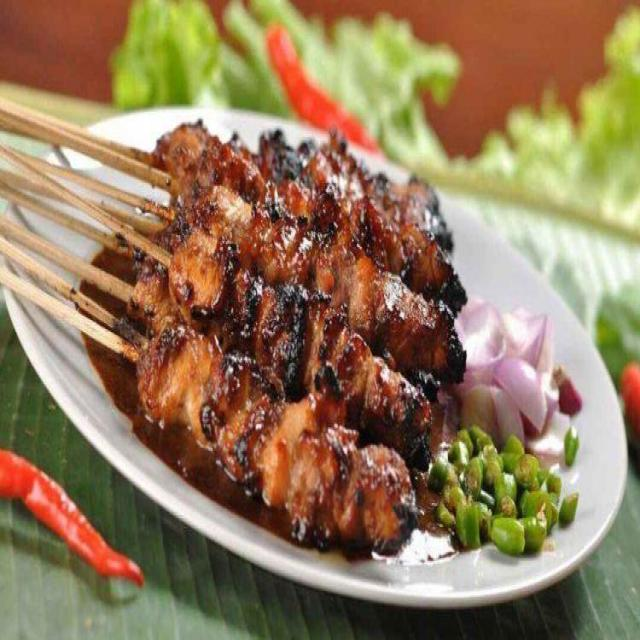Sate: (0, 65, 469, 586)
